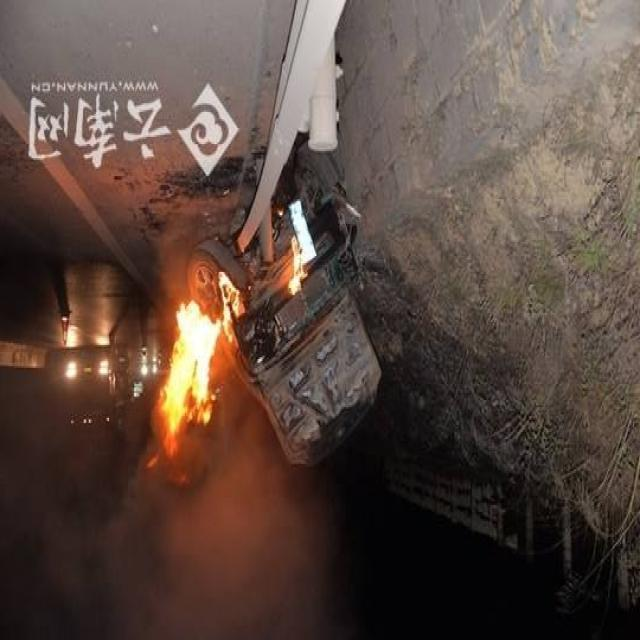fire: (160, 300, 221, 453)
